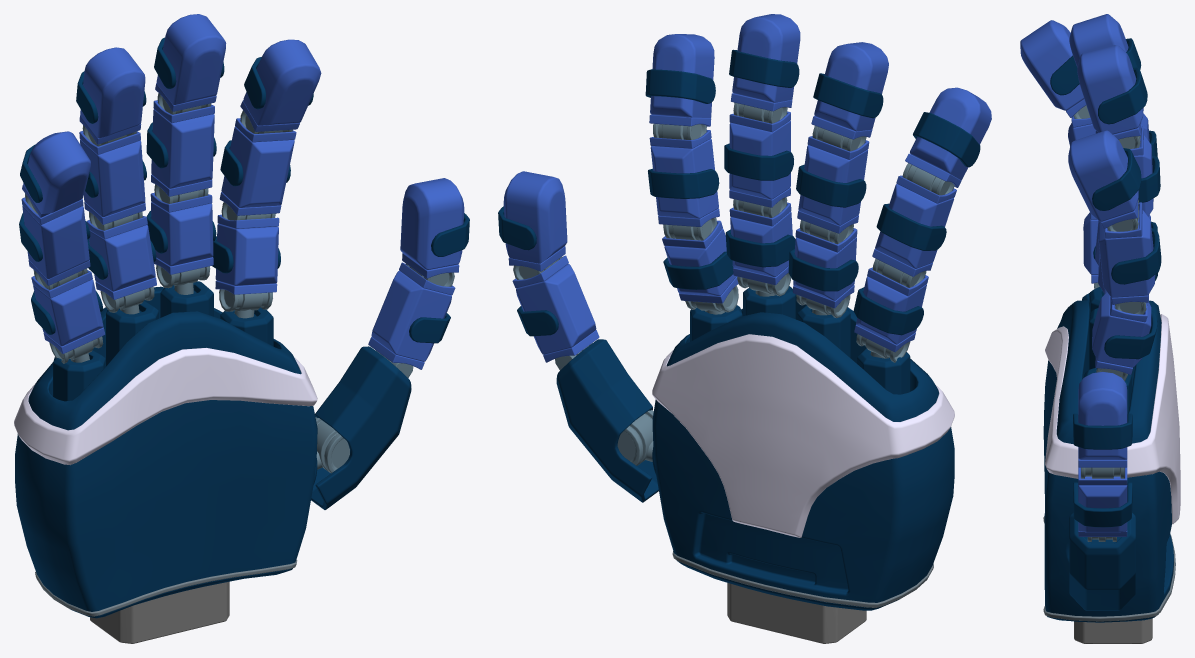
3 renders of one model, left to right at view 1: azimuth 30°, elevation 25°; view 2: azimuth 150°, elevation 25°; view 3: azimuth 270°, elevation 25°, orthographic.
Visible parts, largest first — view 1: palm_mesh, palm_cover_mesh, thumb_mesh, base_joint_mesh, first_finger_003_mesh, first_finger_002_mesh, first_finger_001_mesh, first_finger_004_mesh, second_finger_005_mesh, second_finger_004_mesh, first_finger_005_mesh, second_finger_003_mesh (+21 smaller); view 2: palm_mesh, palm_cover_mesh, thumb_mesh, base_joint_mesh, first_finger_001_mesh, second_finger_005_mesh, first_finger_003_mesh, first_finger_004_mesh, first_finger_002_mesh, first_finger_005_mesh, second_finger_004_mesh, second_finger_003_mesh (+29 smaller); view 3: palm_mesh, palm_cover_mesh, thumb_mesh, first_finger_002_mesh, first_finger_003_mesh, first_finger_001_mesh, first_finger_005_mesh, second_finger_004_mesh, third_finger_004_mesh, base_joint_mesh, first_finger_004_mesh, finger_cover_013_mesh (+26 smaller).
Part boxes in pixels (bbox=[...]): palm_mesh: bbox=[15, 286, 317, 618]; palm_cover_mesh: bbox=[14, 347, 317, 464]; thumb_mesh: bbox=[311, 346, 411, 509]; base_joint_mesh: bbox=[90, 581, 229, 643]; first_finger_003_mesh: bbox=[156, 14, 226, 104]; first_finger_002_mesh: bbox=[243, 39, 321, 125]; first_finger_001_mesh: bbox=[400, 178, 464, 269]; first_finger_004_mesh: bbox=[80, 47, 145, 138]; second_finger_005_mesh: bbox=[371, 271, 451, 361]; second_finger_004_mesh: bbox=[221, 126, 294, 207]; first_finger_005_mesh: bbox=[23, 131, 90, 213]; second_finger_003_mesh: bbox=[151, 109, 214, 188]; palm_mesh: bbox=[652, 294, 954, 610]; palm_cover_mesh: bbox=[652, 334, 954, 537]; thumb_mesh: bbox=[556, 339, 658, 502]; base_joint_mesh: bbox=[727, 583, 866, 643]; first_finger_001_mesh: bbox=[503, 171, 567, 263]; second_finger_005_mesh: bbox=[516, 264, 596, 354]; first_finger_003_mesh: bbox=[732, 14, 800, 102]; first_finger_004_mesh: bbox=[814, 42, 888, 131]; first_finger_002_mesh: bbox=[650, 34, 714, 117]; first_finger_005_mesh: bbox=[910, 87, 991, 180]; second_finger_004_mesh: bbox=[650, 138, 718, 218]; second_finger_003_mesh: bbox=[729, 120, 790, 199]; palm_mesh: bbox=[1043, 300, 1173, 622]; palm_cover_mesh: bbox=[1045, 314, 1180, 524]; thumb_mesh: bbox=[1069, 512, 1135, 610]; first_finger_002_mesh: bbox=[1068, 130, 1138, 221]; first_finger_003_mesh: bbox=[1077, 45, 1143, 134]; first_finger_001_mesh: bbox=[1078, 371, 1127, 459]; first_finger_005_mesh: bbox=[1020, 20, 1084, 110]; second_finger_004_mesh: bbox=[1098, 210, 1155, 297]; third_finger_004_mesh: bbox=[1092, 292, 1151, 367]; base_joint_mesh: bbox=[1074, 618, 1152, 643]; first_finger_004_mesh: bbox=[1069, 14, 1128, 66]; finger_cover_013_mesh: bbox=[1073, 413, 1132, 449].
Bounding box in the file's own units: 9.74 × 12.2 × 3.03.
